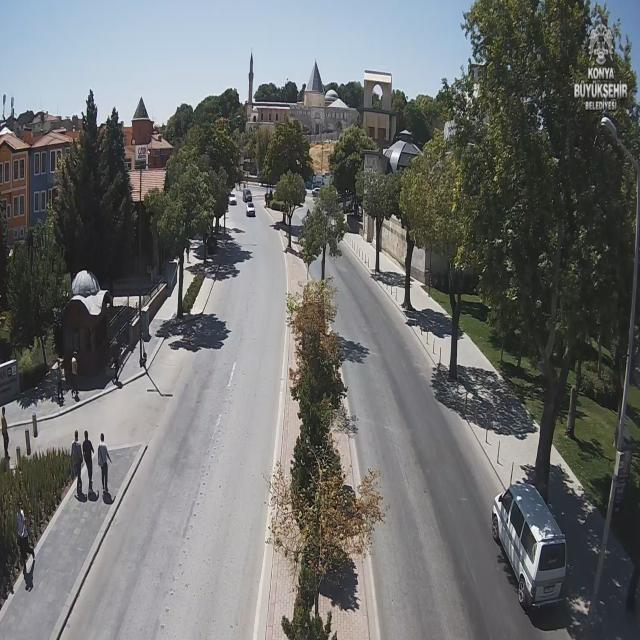Car: (242, 189, 254, 204), (247, 202, 256, 218), (227, 194, 237, 207)
Truck: (495, 478, 566, 606)
